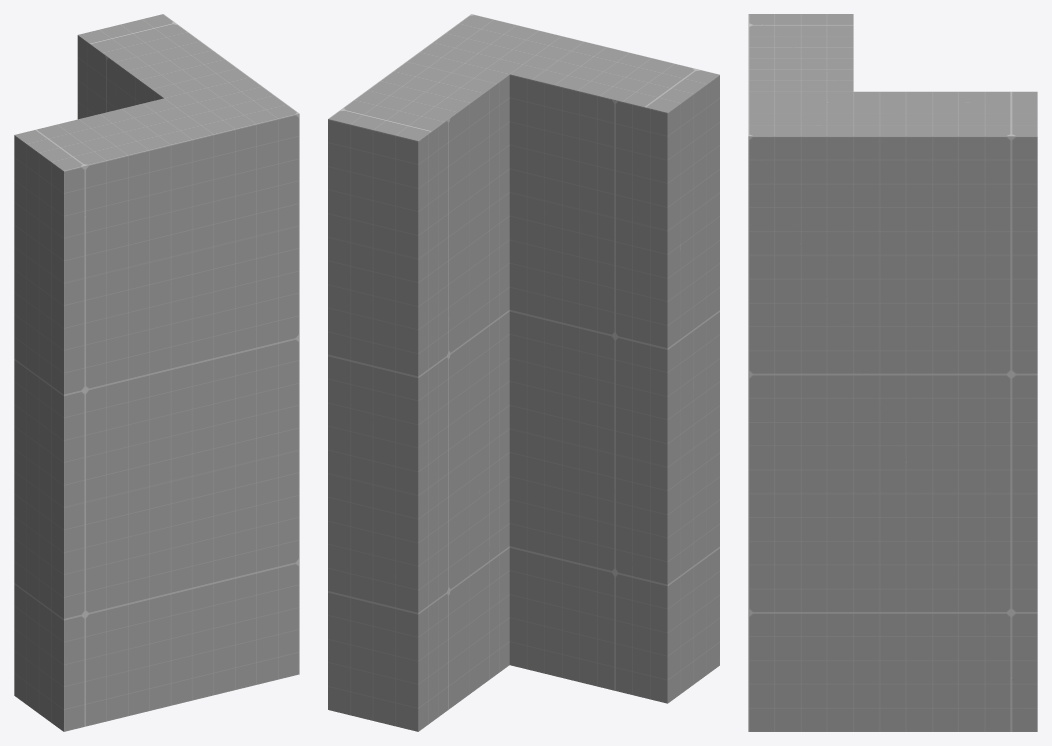
Rendered from Corner_1x1_Thick.002.fbx.
3 views of the same model, side by side, from view 1: azimuth 30°, elevation 25°; view 2: azimuth 150°, elevation 25°; view 3: azimuth 270°, elevation 25° (orthographic). The views are drawn at different scales.
Visible parts, largest first — view 1: Corner_1x1_Thick.002; view 2: Corner_1x1_Thick.002; view 3: Corner_1x1_Thick.002.
Part boxes in pixels (left/top/right/bottom): Corner_1x1_Thick.002: left=14, top=14, right=299, bottom=731; Corner_1x1_Thick.002: left=328, top=14, right=719, bottom=731; Corner_1x1_Thick.002: left=748, top=14, right=1037, bottom=731.
Size of the model in its own units: 110 by 250 by 110.
